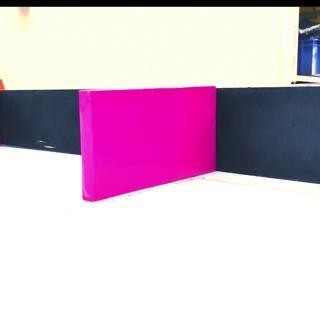xparking: (80, 90, 217, 186)
